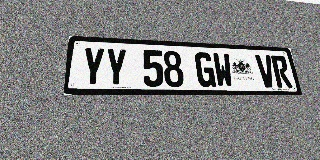5: (143, 50, 164, 87)
8: (163, 50, 184, 87)
G: (194, 52, 216, 87)
R: (271, 55, 293, 88)
V: (255, 55, 277, 88)
W: (212, 53, 234, 87)
Y: (81, 47, 105, 87), (105, 48, 127, 87)
